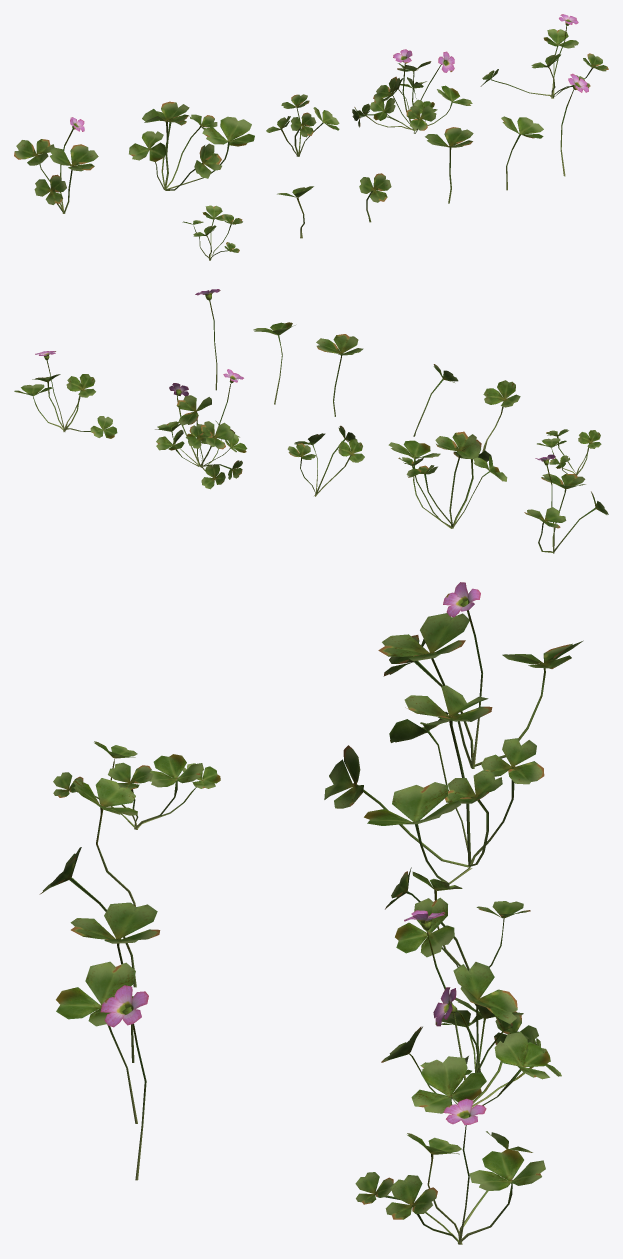
Rendered from shrub_sorrel_01.glb.
3 views of the same model, one above another, from view 1: azimuth 30°, elevation 25°; view 2: azimuth 150°, elevation 25°; view 3: azimuth 270°, elevation 25° (orthographic). The views are drawn at different scales.
Parts seen in each view (by area): view 1: shrub_sorrel_01_k; view 2: shrub_sorrel_01_k; view 3: shrub_sorrel_01_k.
Part boxes in pixels (x1=…): shrub_sorrel_01_k: x1=14, y1=14, x2=608, y2=260; shrub_sorrel_01_k: x1=14, y1=289, x2=608, y2=553; shrub_sorrel_01_k: x1=39, y1=582, x2=583, y2=1244.
Bounding box in the file's own units: 0.3521 × 0.058 × 0.1464.
1 material, 1 textured.
